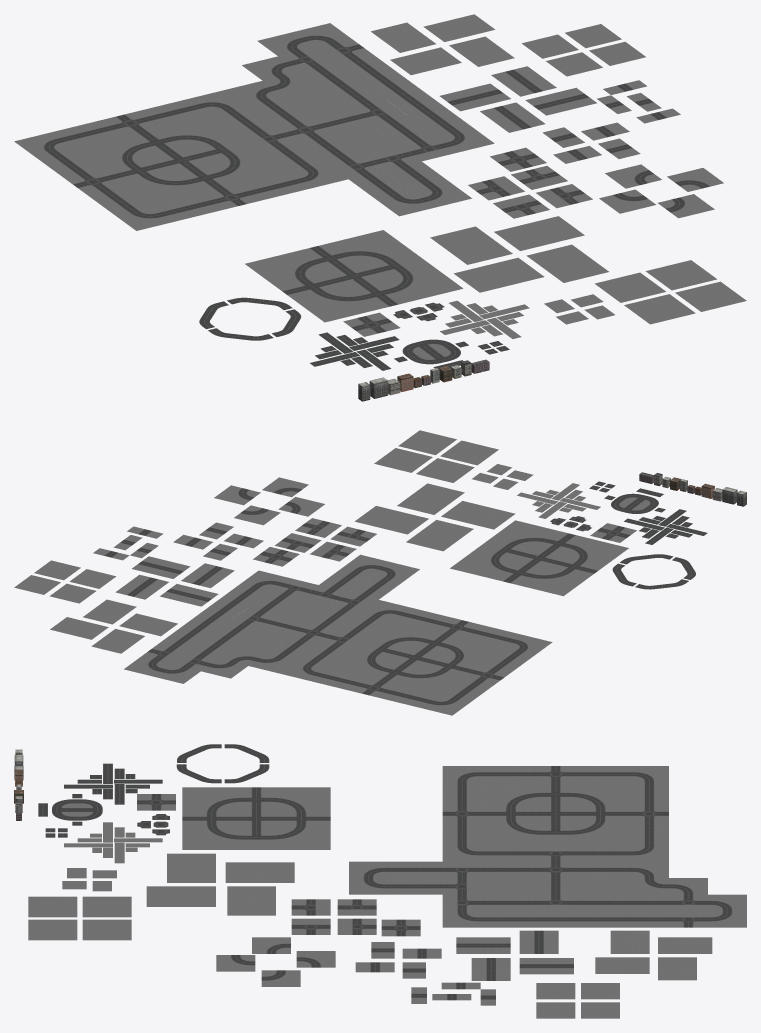
File: Modular_City_Pieces.fbx
3 views of the same model, one above another, from view 1: azimuth 30°, elevation 25°; view 2: azimuth 150°, elevation 25°; view 3: azimuth 270°, elevation 25° (orthographic). The views are drawn at different scales.
Parts seen in each view (by area): view 1: StreetSection265, StreetSection267, StreetSection266, StreetSection264, StreetSection209, StreetSection208, StreetSection210, StreetSection211, StreetSection187, StreetSection189, StreetSection185, StreetSection188 (+68 smaller); view 2: StreetSection264, StreetSection266, StreetSection265, StreetSection267, StreetSection209, StreetSection208, StreetSection210, StreetSection211, StreetSection185, StreetSection188, StreetSection187, StreetSection189 (+68 smaller); view 3: StreetSection264, StreetSection265, StreetSection266, StreetSection267, StreetSection208, StreetSection209, StreetSection210, StreetSection211, StreetSection189, StreetSection188, StreetSection185, StreetSection187 (+72 smaller).
Boxes of the visible parts, left/top/right/bottom form: StreetSection265: left=287, top=279, right=389, bottom=322; StreetSection267: left=245, top=248, right=346, bottom=291; StreetSection266: left=319, top=230, right=420, bottom=272; StreetSection264: left=361, top=261, right=462, bottom=304; StreetSection209: left=453, top=257, right=544, bottom=292; StreetSection208: left=494, top=216, right=584, bottom=250; StreetSection210: left=526, top=244, right=608, bottom=282; StreetSection211: left=430, top=226, right=512, bottom=264; StreetSection187: left=146, top=114, right=247, bottom=146; StreetSection189: left=114, top=173, right=216, bottom=206; StreetSection185: left=213, top=145, right=290, bottom=188; StreetSection188: left=72, top=132, right=149, bottom=175; StreetSection264: left=485, top=520, right=567, bottom=555; StreetSection266: left=450, top=546, right=532, bottom=581; StreetSection265: left=546, top=535, right=628, bottom=570; StreetSection267: left=511, top=561, right=593, bottom=596; StreetSection209: left=441, top=501, right=515, bottom=529; StreetSection208: left=355, top=506, right=428, bottom=534; StreetSection210: left=397, top=483, right=464, bottom=514; StreetSection211: left=406, top=520, right=473, bottom=551; StreetSection185: left=361, top=620, right=444, bottom=646; StreetSection188: left=386, top=668, right=469, bottom=695; StreetSection187: left=326, top=645, right=388, bottom=680; StreetSection189: left=441, top=634, right=504, bottom=669; StreetSection264: left=182, top=820, right=251, bottom=849; StreetSection265: left=182, top=787, right=251, bottom=816; StreetSection266: left=261, top=820, right=330, bottom=849; StreetSection267: left=261, top=787, right=330, bottom=816; StreetSection208: left=227, top=886, right=275, bottom=915; StreetSection209: left=167, top=853, right=215, bottom=882; StreetSection210: left=146, top=886, right=215, bottom=906; StreetSection211: left=225, top=862, right=294, bottom=882; StreetSection189: left=481, top=782, right=550, bottom=811; StreetSection188: left=560, top=782, right=629, bottom=811; StreetSection185: left=481, top=816, right=550, bottom=844; StreetSection187: left=560, top=816, right=629, bottom=844.
Bounding box in the file's own units: 1332 × 31.12 × 1502.
Materials: 7 (7 with a texture image).
